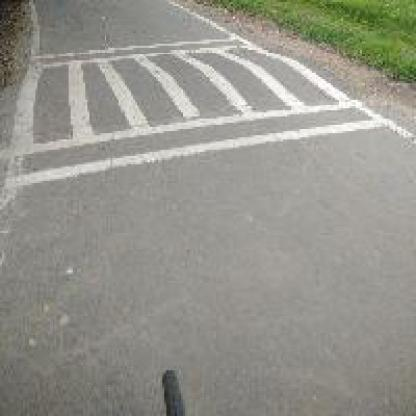Speed Bump: (6, 33, 385, 187)
